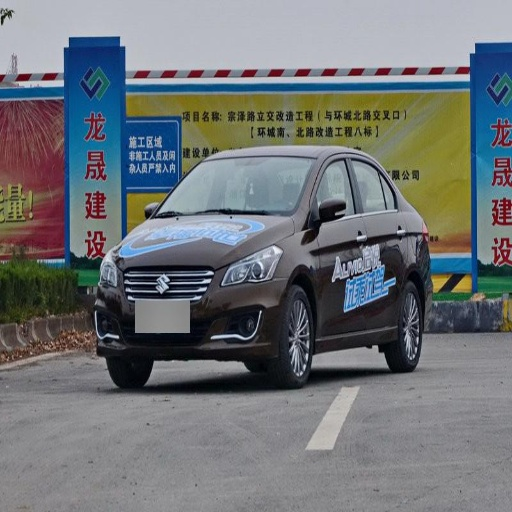front_bumper: (95, 255, 286, 358)
front_glass: (151, 156, 315, 218)
front_left_door: (311, 154, 371, 336)
